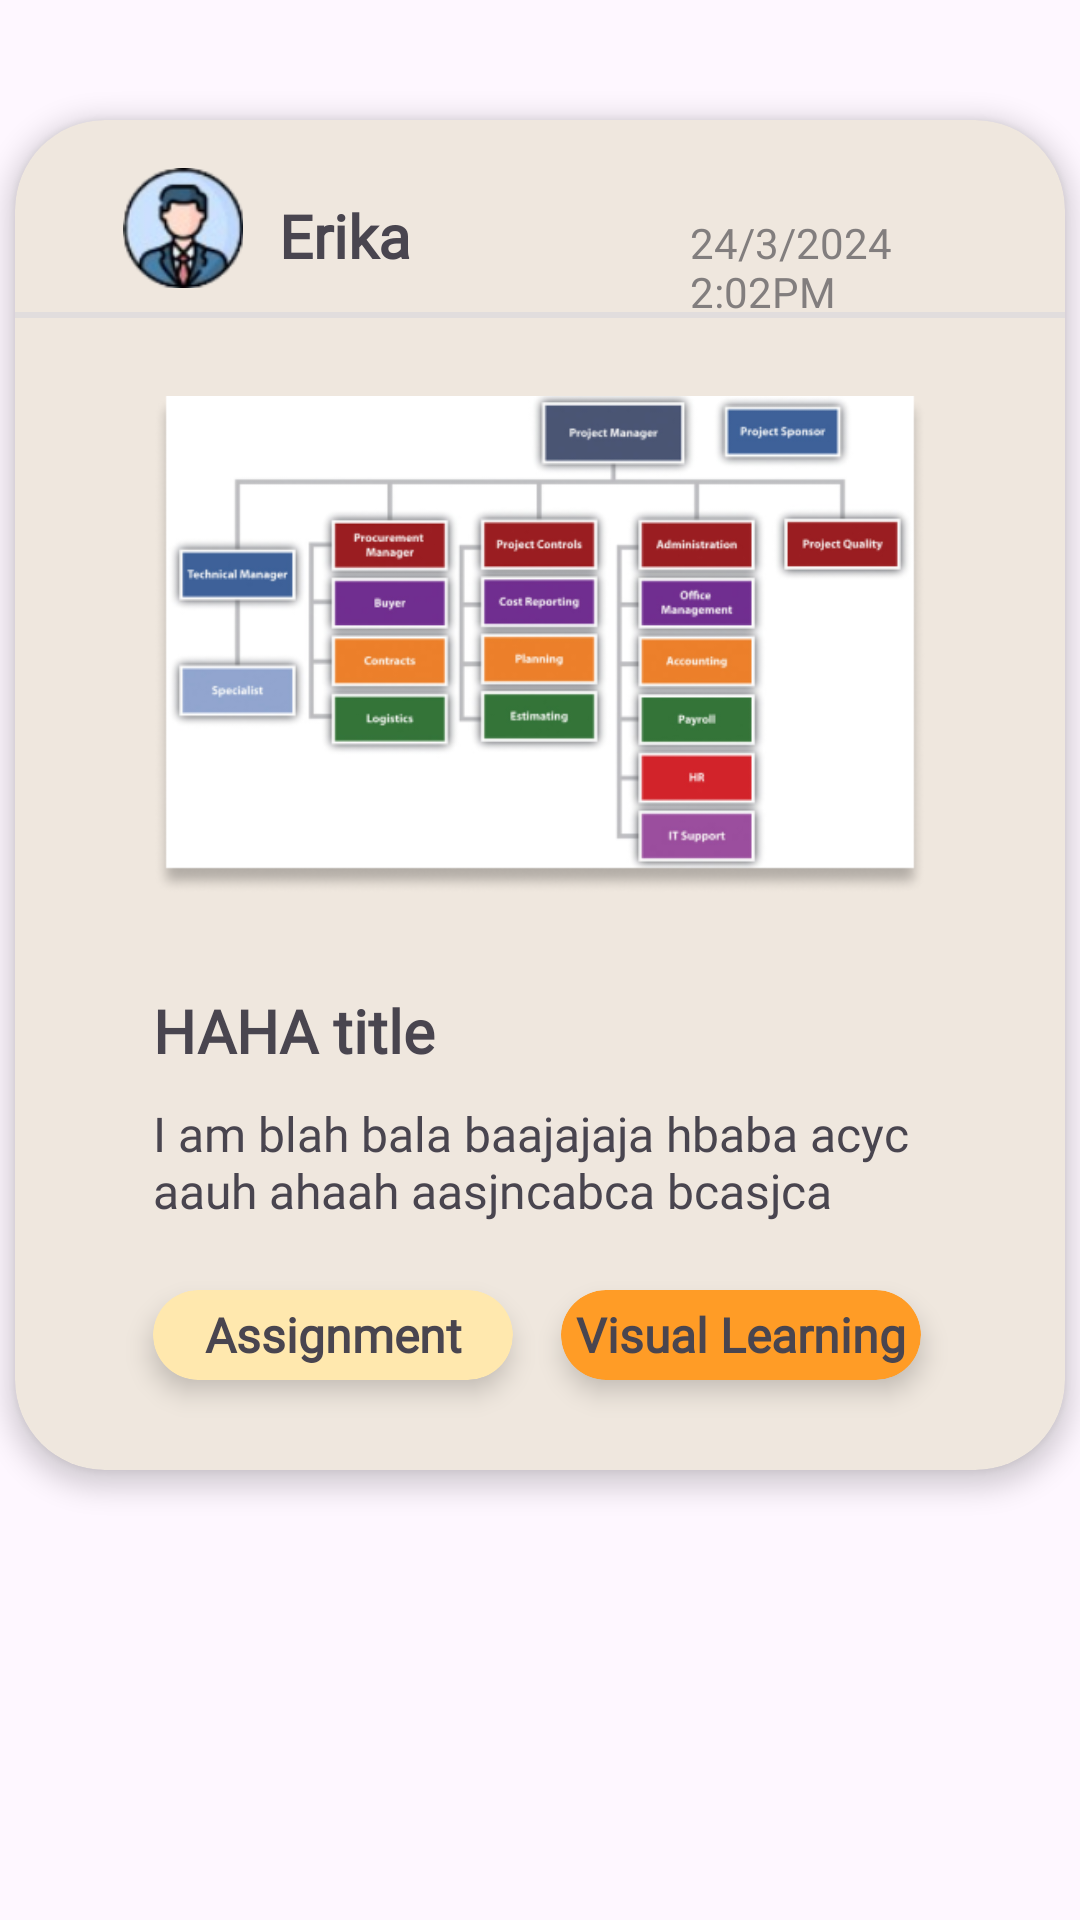

Locate icon controls on the screen. Image size 1080×1920, boxes as (x1, y1, x2, y2).
profile pic: (123, 168, 243, 288)
